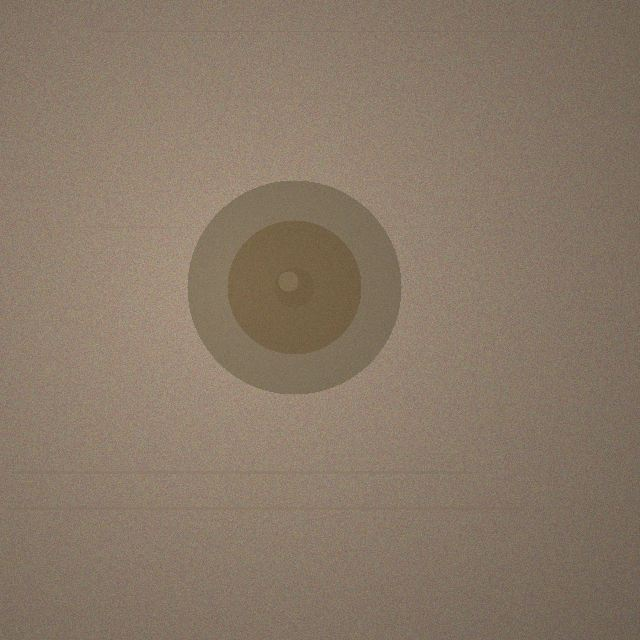good: (187, 180, 401, 394)
